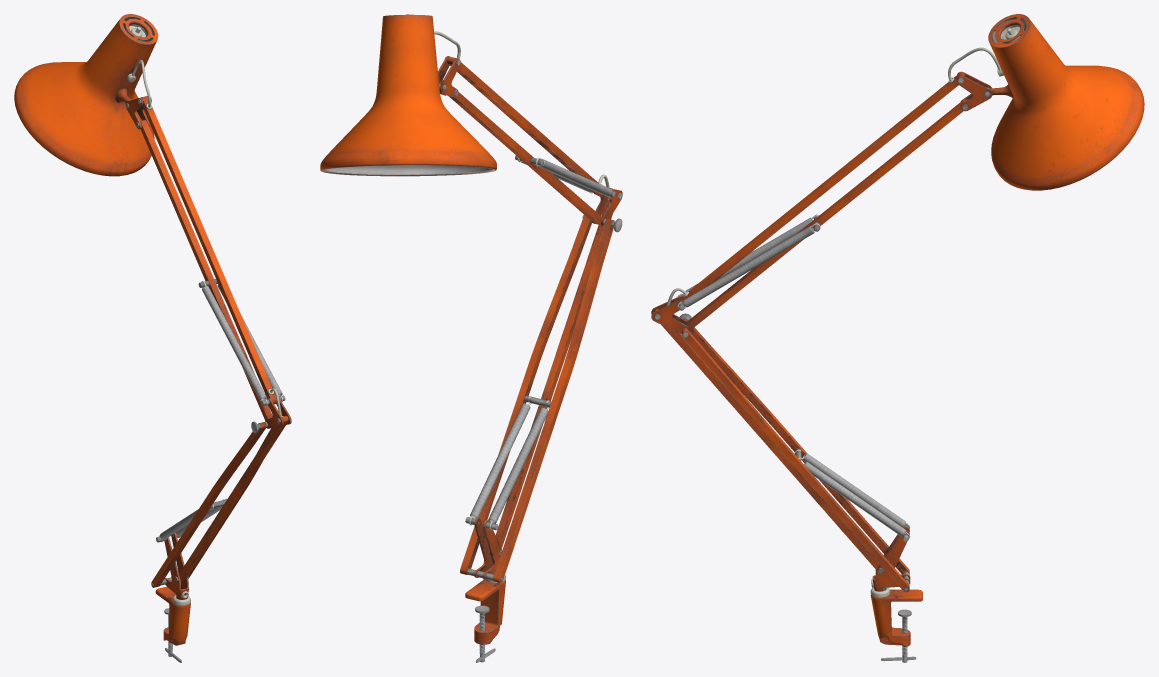
Rendered from desk_lamp_arm_01.glb.
3 renders of one model, left to right at view 1: azimuth 30°, elevation 25°; view 2: azimuth 150°, elevation 25°; view 3: azimuth 270°, elevation 25°, orthographic. The views are drawn at different scales.
Visible parts, largest first — view 1: desk_lamp_arm_01; view 2: desk_lamp_arm_01; view 3: desk_lamp_arm_01.
Part boxes in pixels (x1,y1,x2,y2): desk_lamp_arm_01: (14, 14, 291, 662); desk_lamp_arm_01: (320, 14, 622, 662); desk_lamp_arm_01: (651, 14, 1144, 662).
Size of the model in its own units: 0.2017 by 0.8926 by 0.6139.
Materials: 2 (2 with a texture image).
